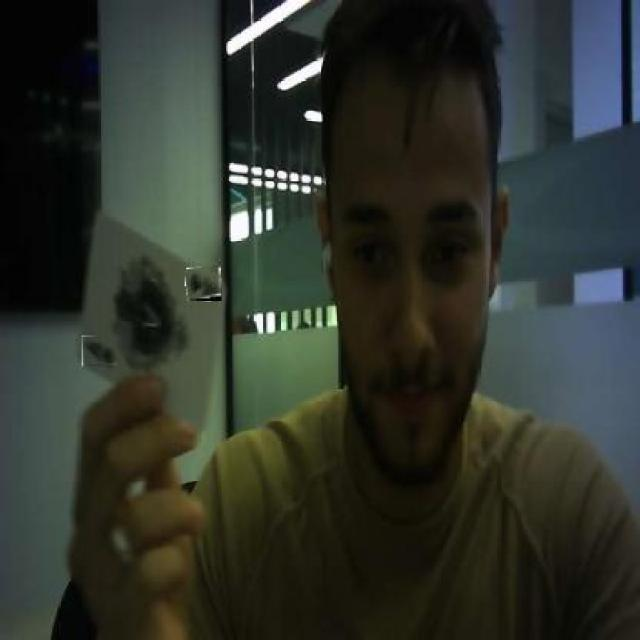AS: (186, 267, 222, 301), (81, 336, 117, 366)
